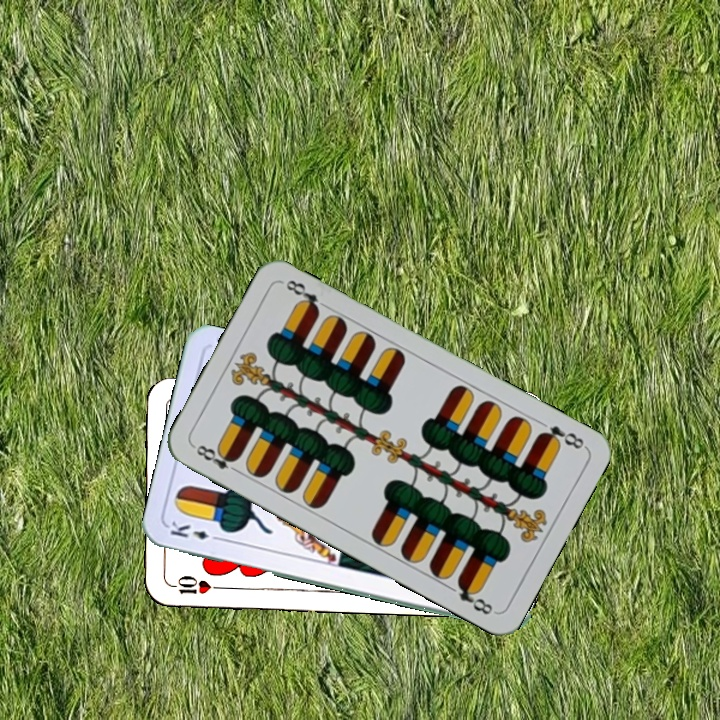E8: (189, 440, 243, 477), (533, 416, 588, 452)
EK: (166, 517, 224, 543)
H10: (165, 572, 224, 597)
